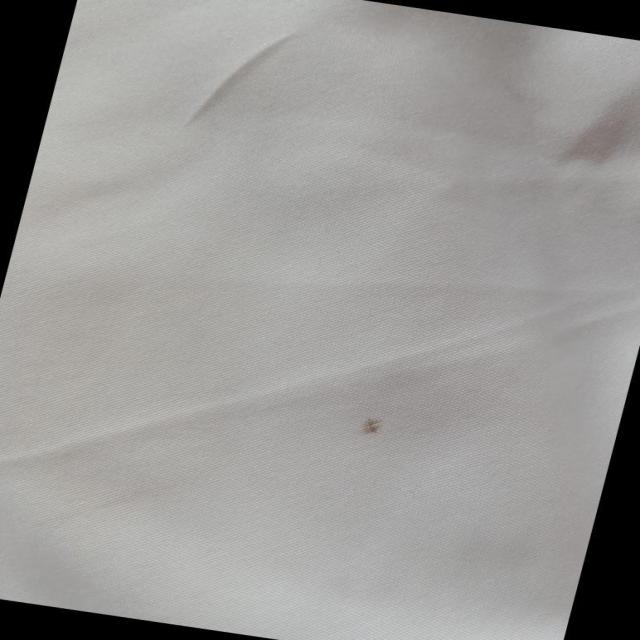stain: (340, 406, 403, 445)
